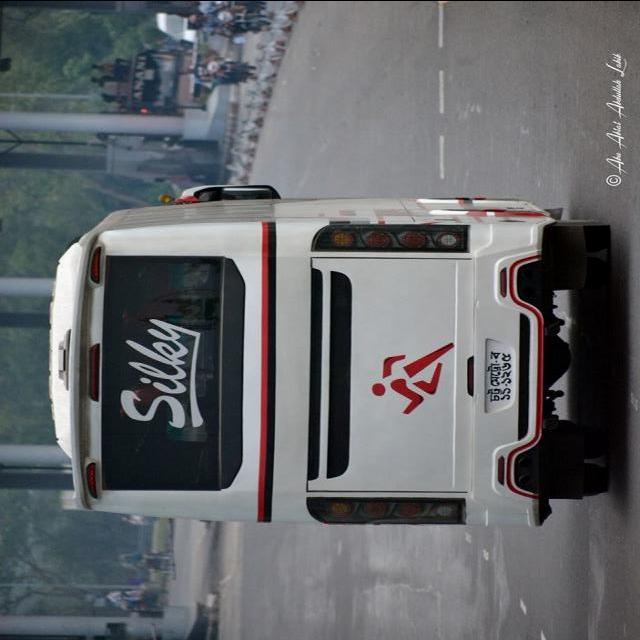bus: (50, 183, 613, 528)
